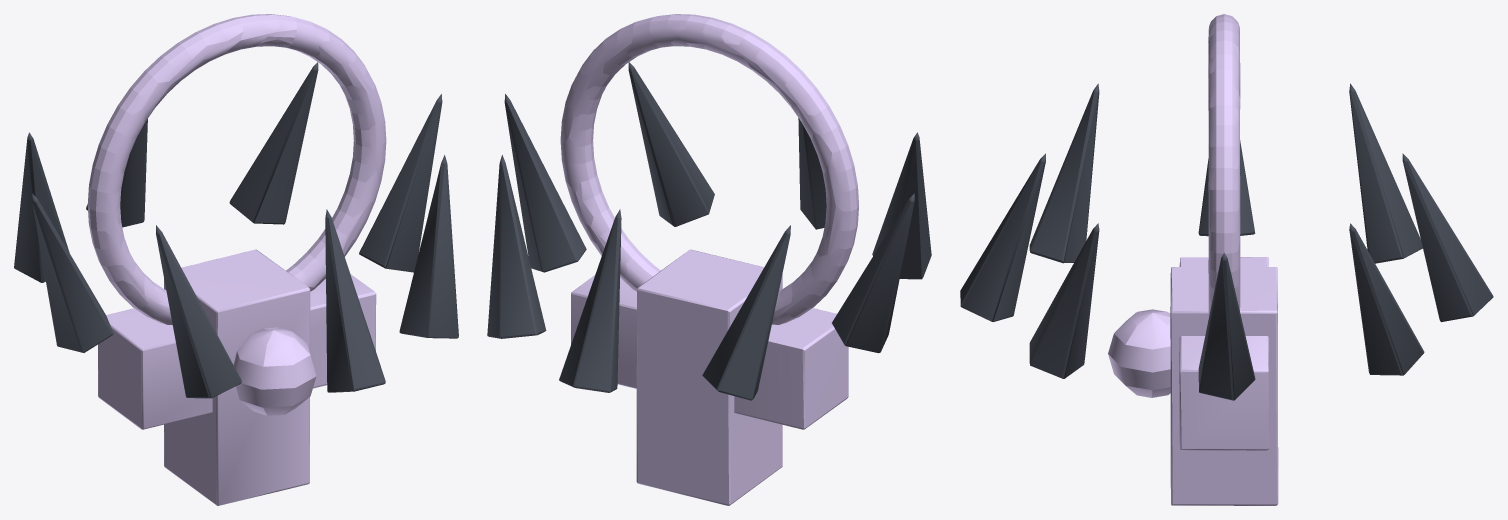
File: SM_Boss_Marktturm_LOD1.fbx
3 renders of one model, left to right at view 1: azimuth 30°, elevation 25°; view 2: azimuth 150°, elevation 25°; view 3: azimuth 270°, elevation 25°, orthographic.
Parts seen in each view (by area): view 1: SM_Boss_Marktturm_LOD1; view 2: SM_Boss_Marktturm_LOD1; view 3: SM_Boss_Marktturm_LOD1.
Boxes of the visible parts, x1=… form: SM_Boss_Marktturm_LOD1: x1=14, y1=14, x2=458, y2=505; SM_Boss_Marktturm_LOD1: x1=487, y1=14, x2=931, y2=505; SM_Boss_Marktturm_LOD1: x1=960, y1=14, x2=1493, y2=505.
Size of the model in its own units: 3.74 by 3.99 by 4.24.
